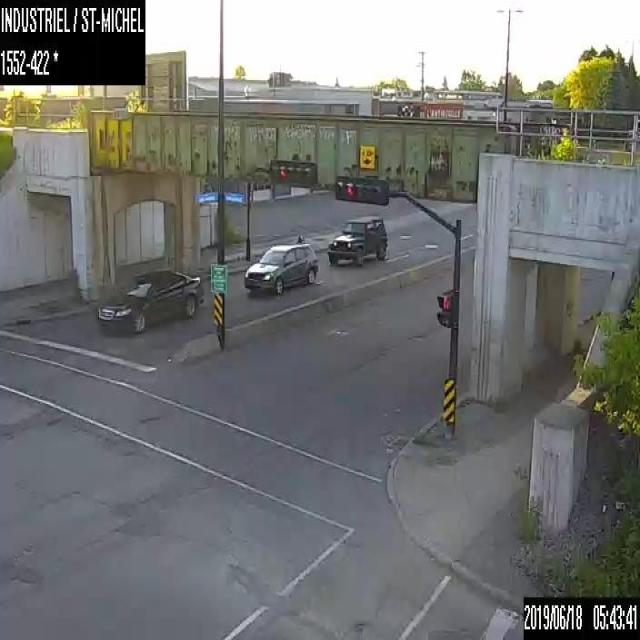vehicle: (96, 268, 203, 333), (244, 242, 318, 294), (326, 216, 386, 264)
